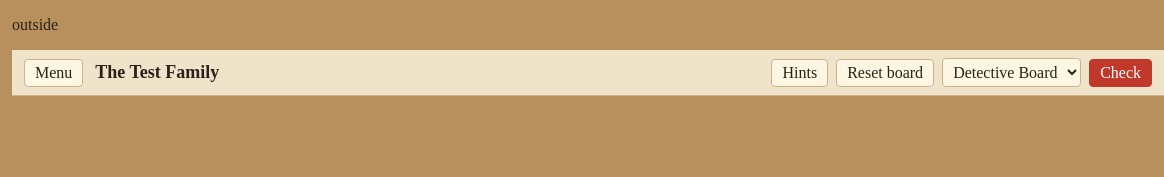
Test: StatusBar › closes the hints menu on Escape and on an outside click
Click the button "Hints". click: [800, 72]
box: [772,58,828,86]
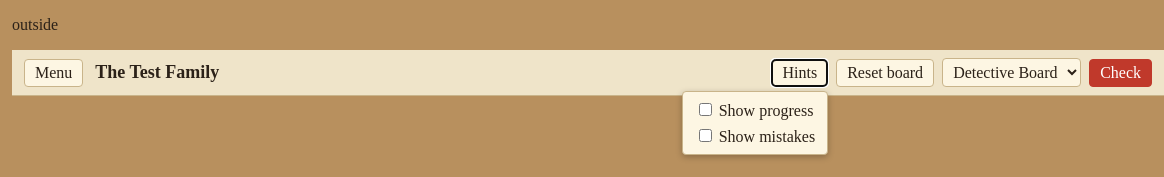
Expected: the checkbox labelled "Show progress" is shown, [699,102,712,116]
Press Escape
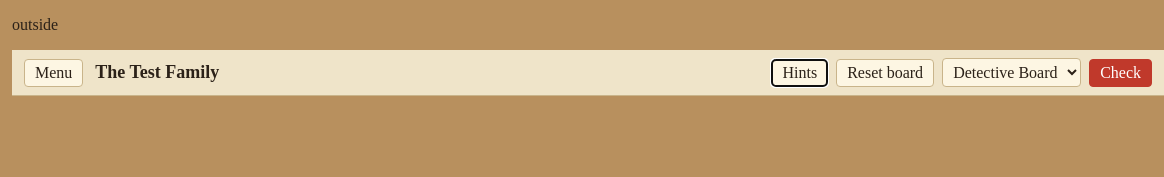
Expected: the label "Show progress" is gone
Click the button "Hints". click: [800, 72]
box: [772,58,828,86]
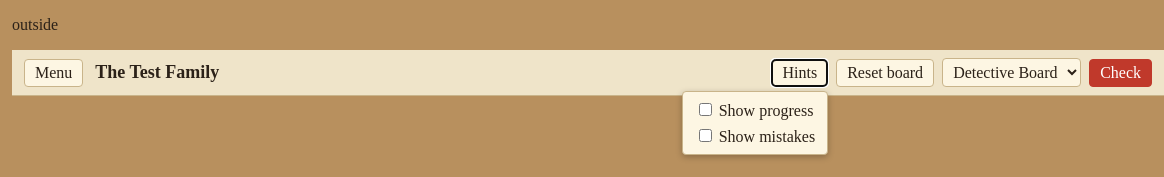
Click the checkbox labelled "Show progress". click: [705, 109]
box: [699,102,712,116]
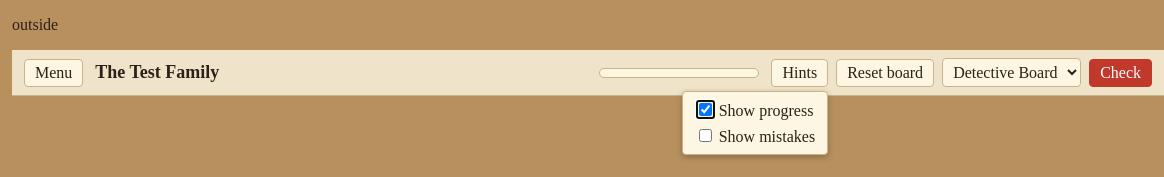
Expected: the checkbox labelled "Show progress" is checked, [699,102,712,116]
Click the text "outside". click: [35, 24]
box: [12,16,58,33]
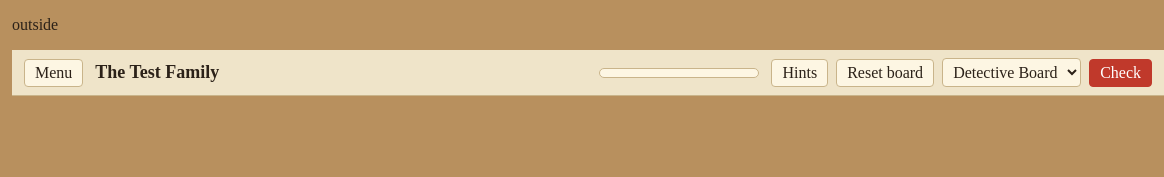
Expected: the label "Show progress" is gone
